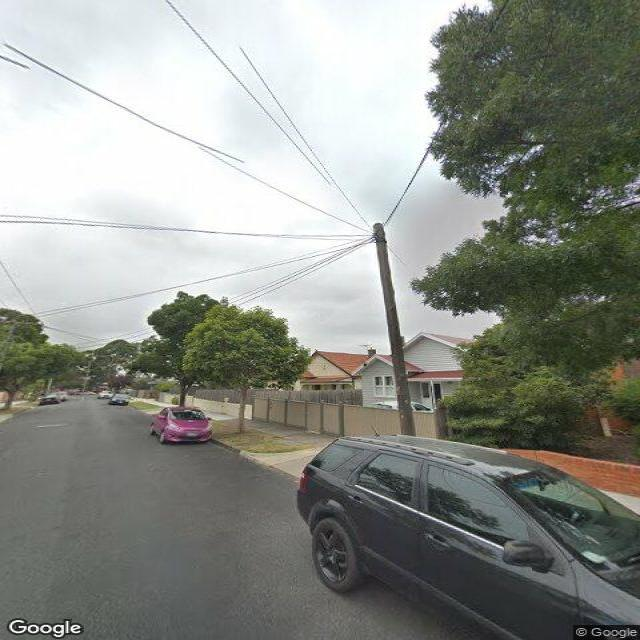timber-pole: (371, 221, 417, 437)
